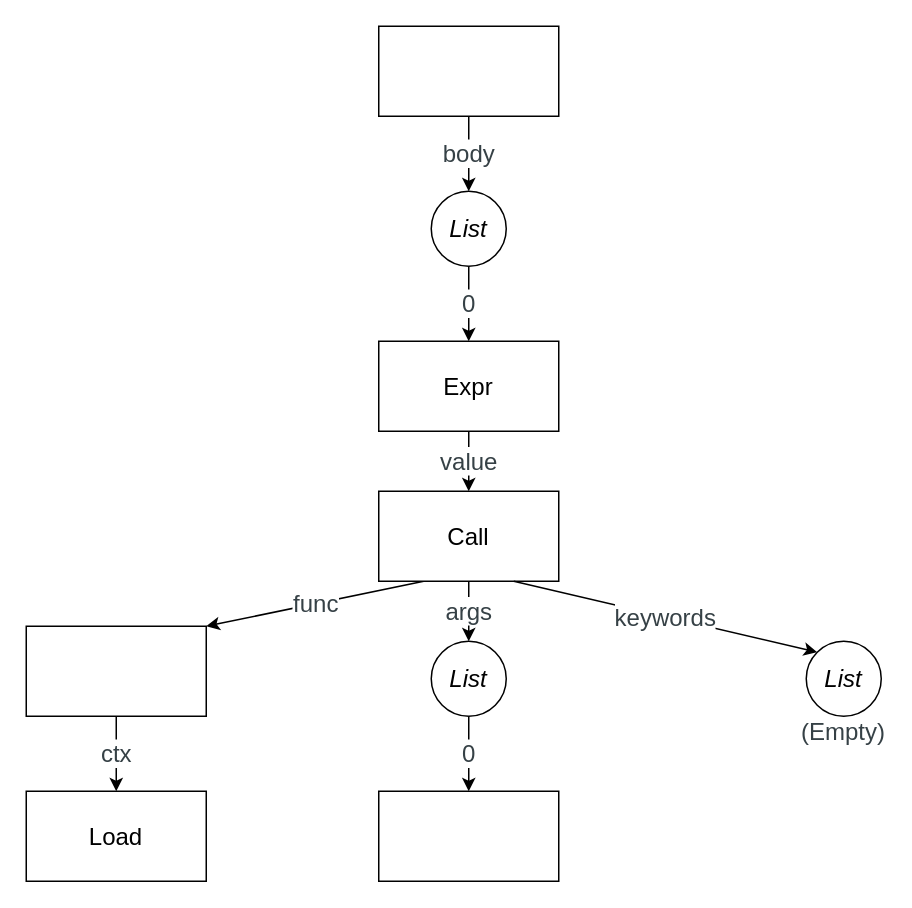
Image size: 912x908. Some labels were removed from this diagram. The shapes that lost their labels are listed below. From the top down, each one's centre as x and y in pixels, then its label:
At [468,70]: "Module".
At [115,670]: "Name id = 'print'".
At [468,835]: "Str s = 'hello world'".
